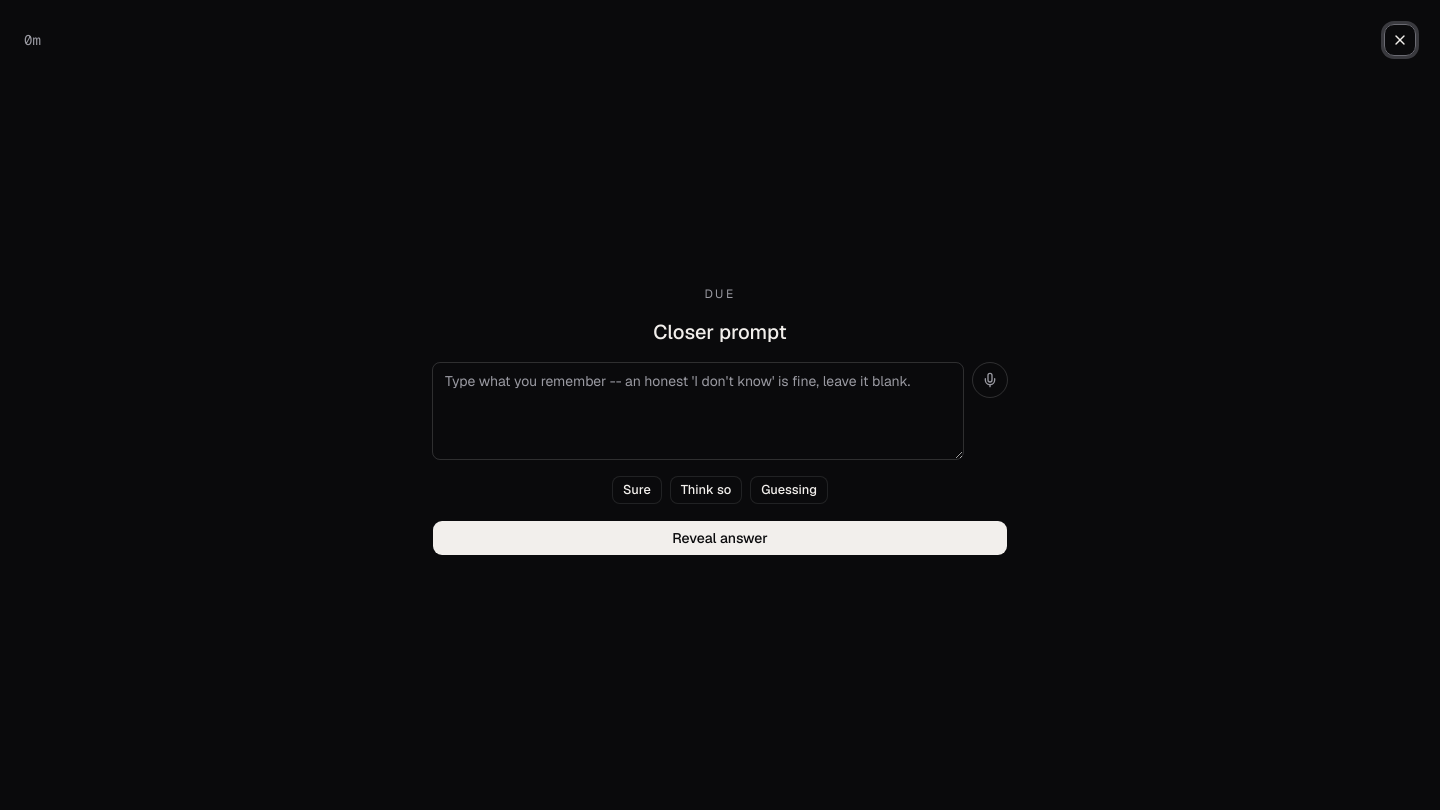
RetrievalSessionOverlay › P2-15: the closer card requests a day-connection, and shows it under 'Today' once it resolves with a real one
The image size is (1440, 810).
expect the text "Closer prompt" is shown: met, box [653,319,787,345]
Click the button "Reveal answer". click: (720, 538)
box: [432,520,1008,556]
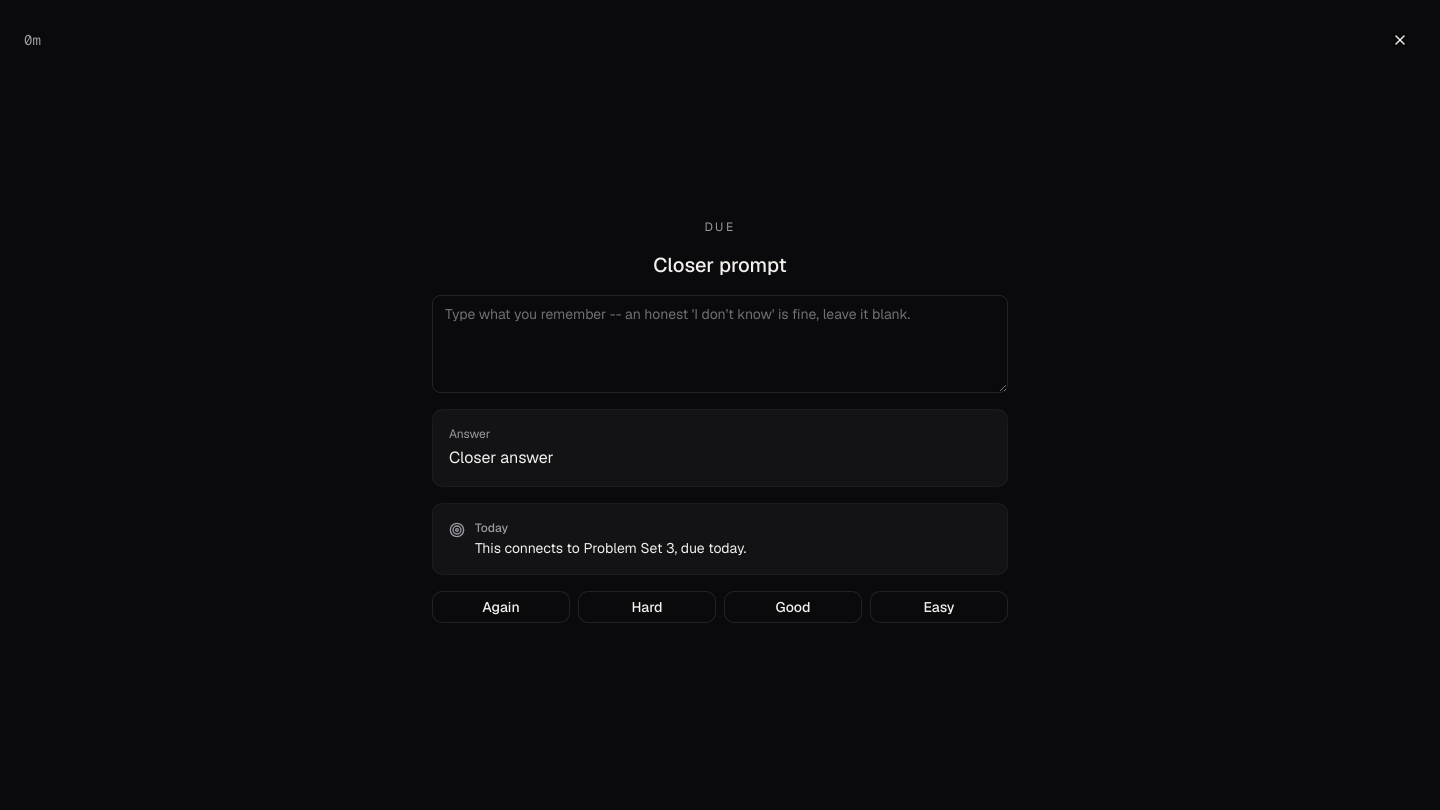
expect the text "Closer answer" is shown: met, box [449,447,554,468]
expect the text "This connects to Problem Set 3, due today." is shown: met, box [475,538,746,558]
expect the text "Today" is shown: met, box [475,520,508,536]
